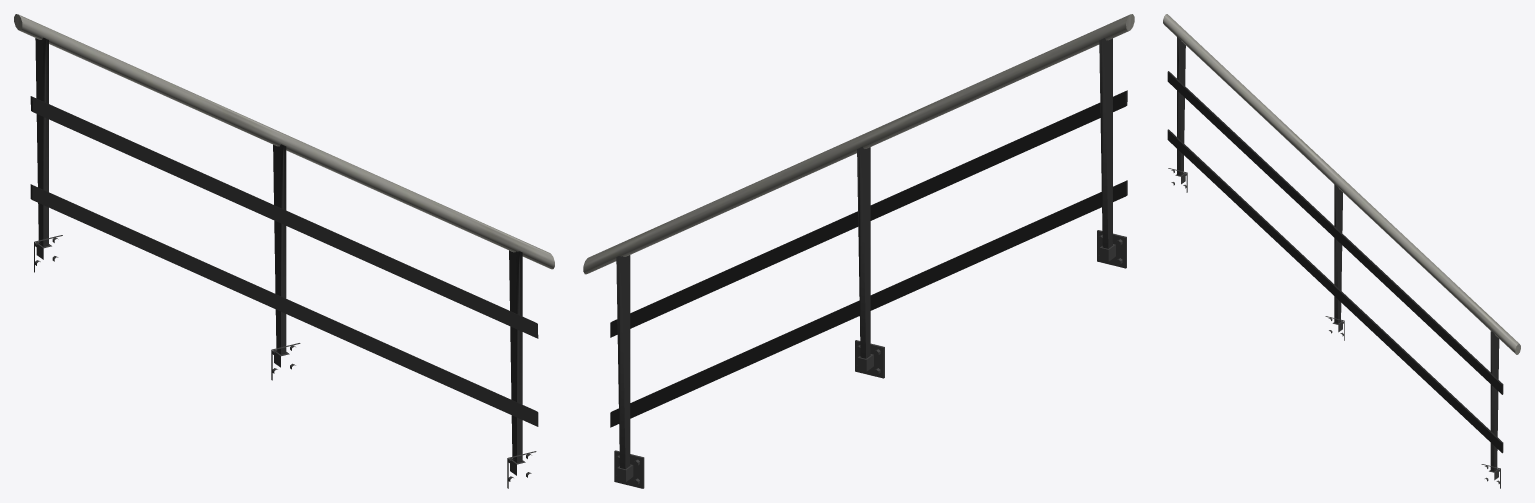
3 views of the same model, side by side, from view 1: azimuth 30°, elevation 25°; view 2: azimuth 150°, elevation 25°; view 3: azimuth 330°, elevation 25° (orthographic). The views are drawn at different scales.
Parts seen in each view (by area): view 1: body0_model0_lod0_mesh0; view 2: body0_model0_lod0_mesh0; view 3: body0_model0_lod0_mesh0.
Part boxes in pixels (left/top/right/bottom): body0_model0_lod0_mesh0: left=14, top=14, right=554, bottom=488; body0_model0_lod0_mesh0: left=583, top=14, right=1134, bottom=488; body0_model0_lod0_mesh0: left=1163, top=14, right=1520, bottom=488.
Size of the model in its own units: 108 by 113 by 3.82.
1 material, 1 textured.
